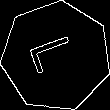L_E: (27, 33, 85, 80)
